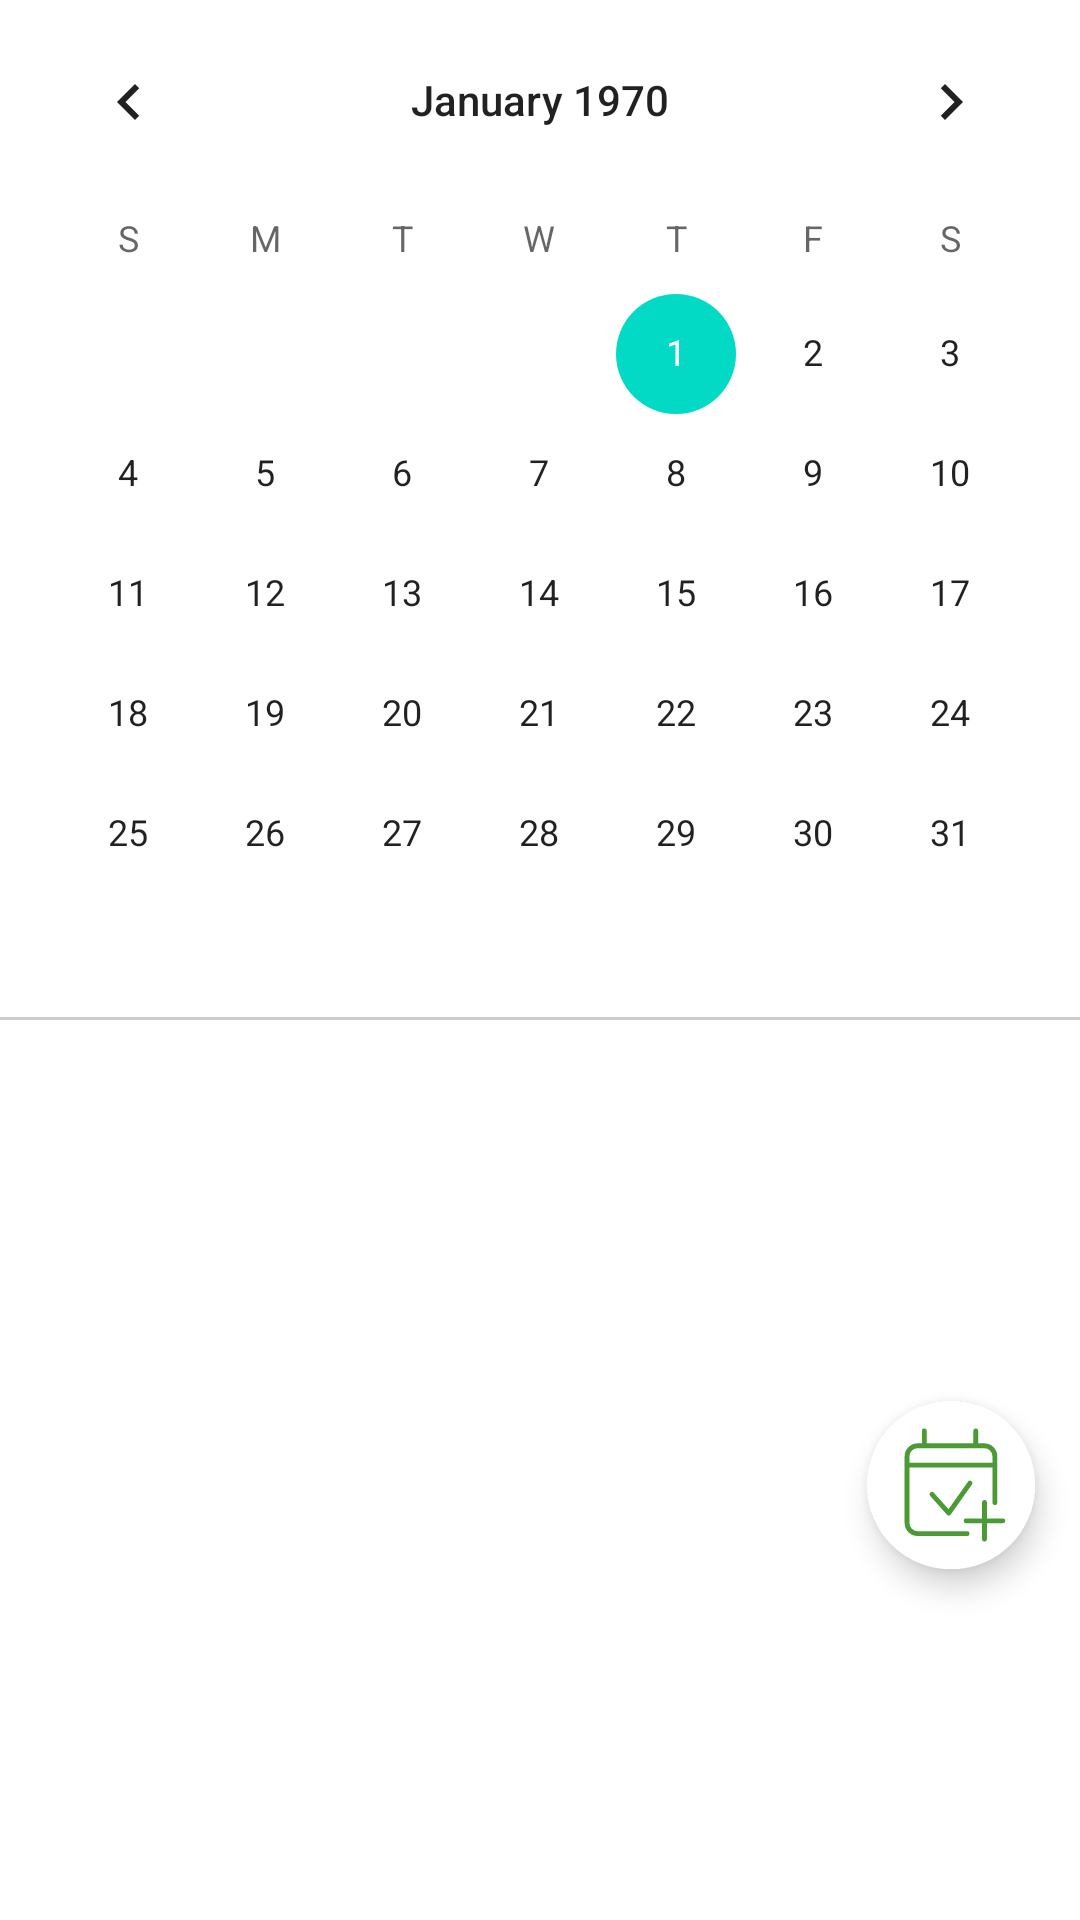

Point at icon controls on the screen. Image size 1080x1920, points as (x=x, y=y).
추가하기: (x=951, y=1471)
